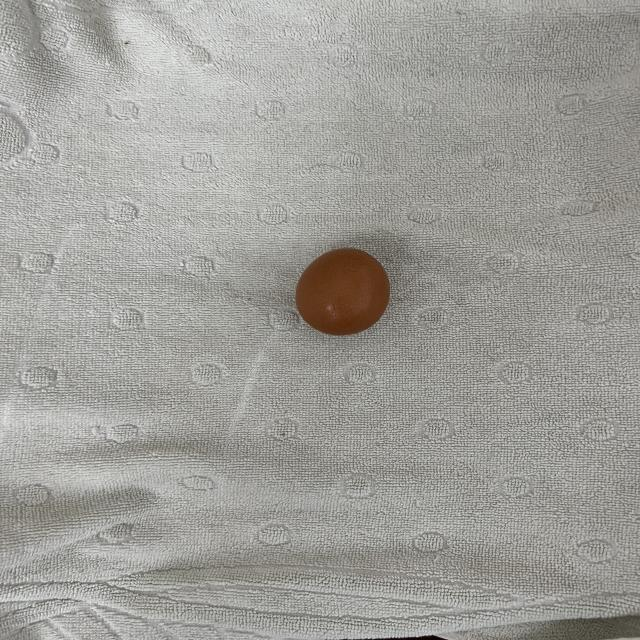egg: (295, 243, 393, 342)
